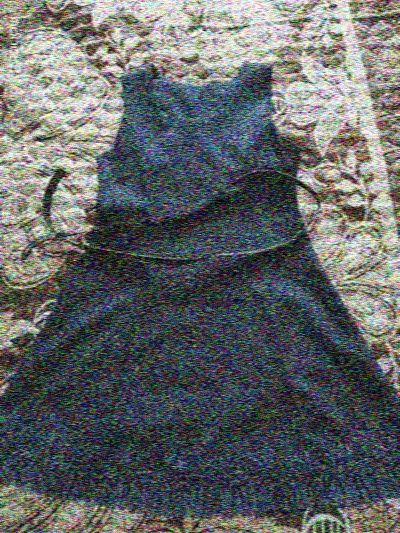Dress: (20, 52, 390, 520)
